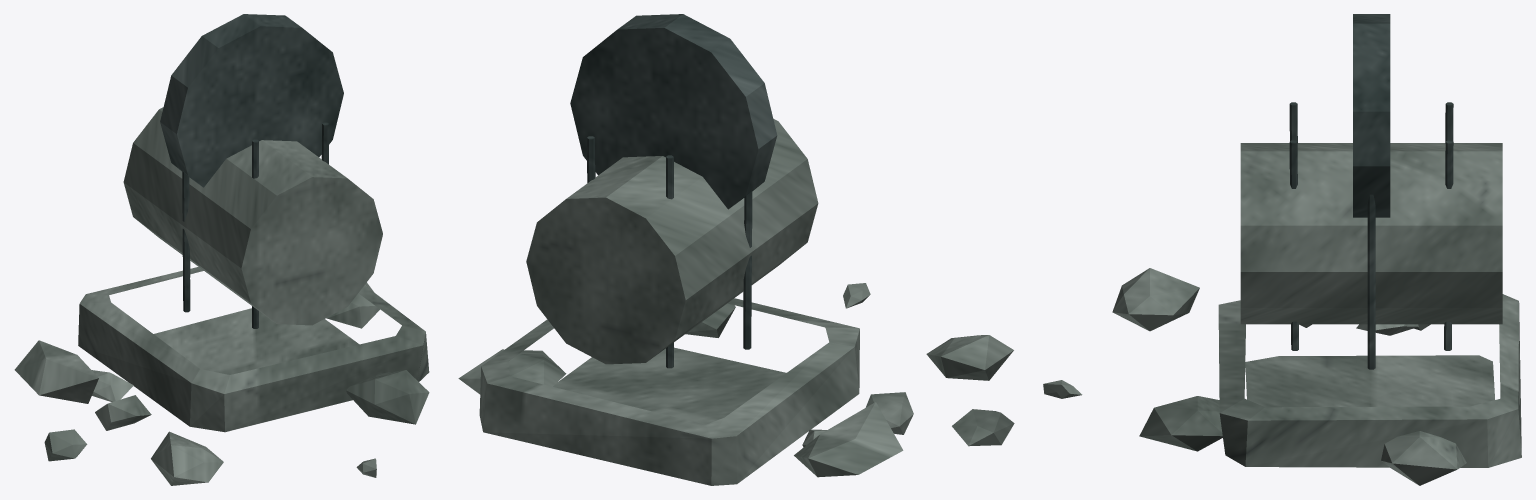
Rendered from 0258_broken_column_08.glb.
The picture shows the model from 3 angles, left to right: view 1: azimuth 30°, elevation 25°; view 2: azimuth 150°, elevation 25°; view 3: azimuth 270°, elevation 25°; orthographic projection. The views are drawn at different scales.
Visible parts, largest first — view 1: stone, stone_dark; view 2: stone, stone_dark; view 3: stone, stone_dark.
Part boxes in pixels (<box>): stone: <box>14,107,429,485</box>; stone_dark: <box>160,14,343,328</box>; stone: <box>458,119,1014,485</box>; stone_dark: <box>570,14,777,368</box>; stone: <box>1043,143,1521,485</box>; stone_dark: <box>1289,14,1453,369</box>.
Size of the model in its own units: 2.08 by 1.72 by 1.92.
Materials: 2 (2 with a texture image).
